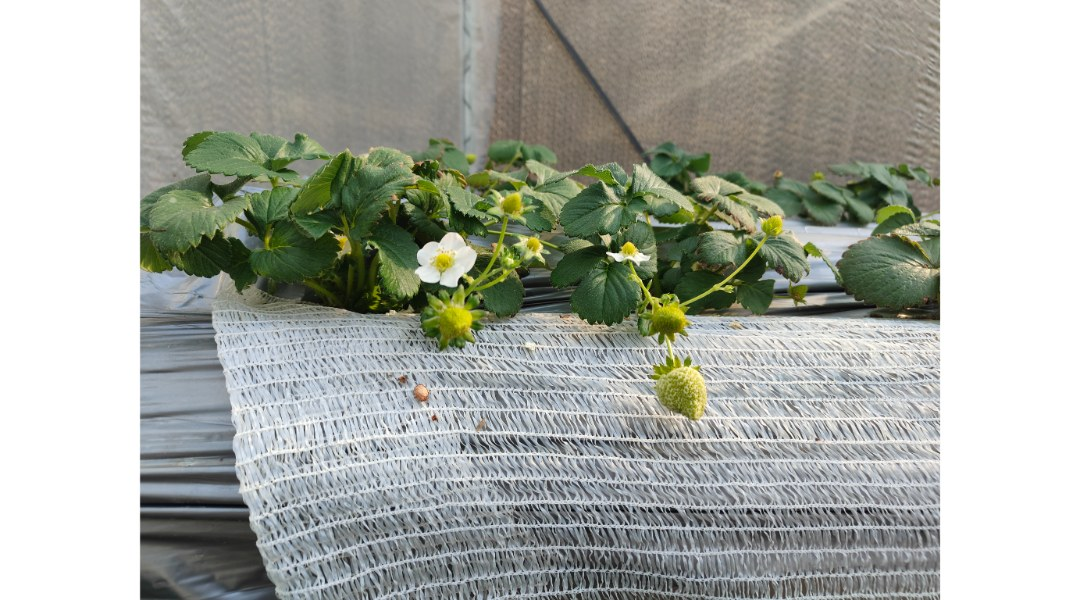berry: (643, 357, 716, 423), (423, 290, 485, 350), (496, 187, 524, 219), (761, 209, 784, 241)
flower: (418, 229, 474, 293), (604, 234, 655, 266)
strain: (684, 248, 757, 309), (630, 273, 652, 302), (491, 226, 505, 259)
